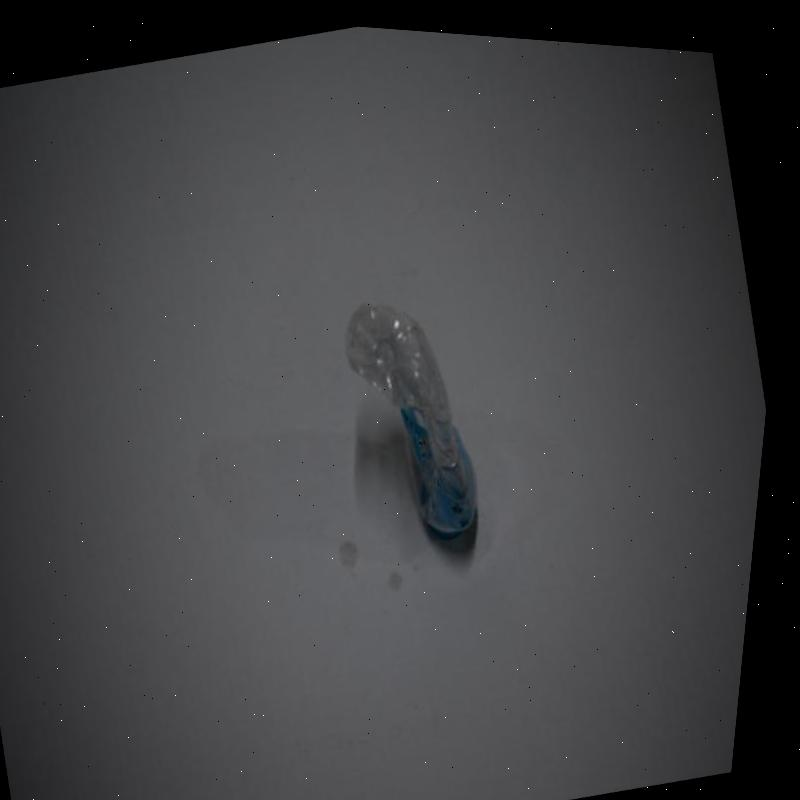botella: (324, 272, 518, 549)
